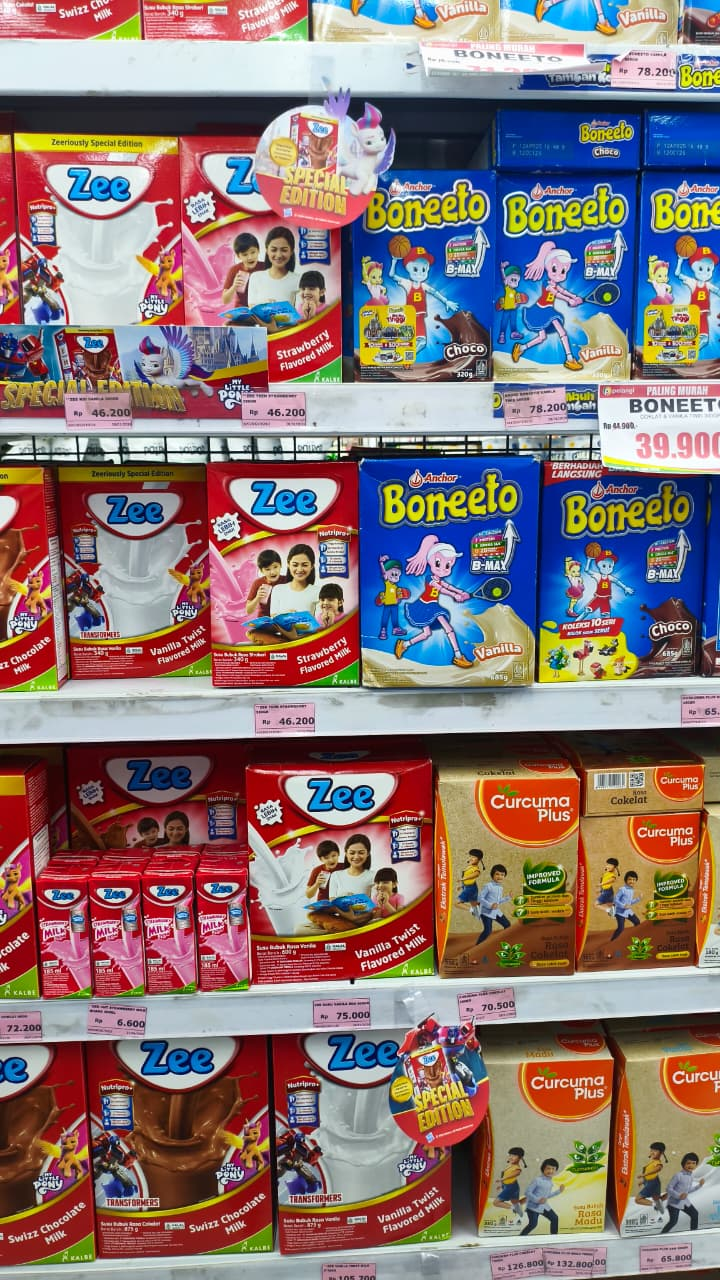Boneeto: (374, 465, 525, 632), (499, 181, 637, 350)
Curcuma plus: (467, 776, 593, 898), (503, 1062, 629, 1184)
Zee: (271, 771, 423, 939), (115, 1034, 267, 1202), (37, 149, 170, 290), (217, 460, 350, 601)
